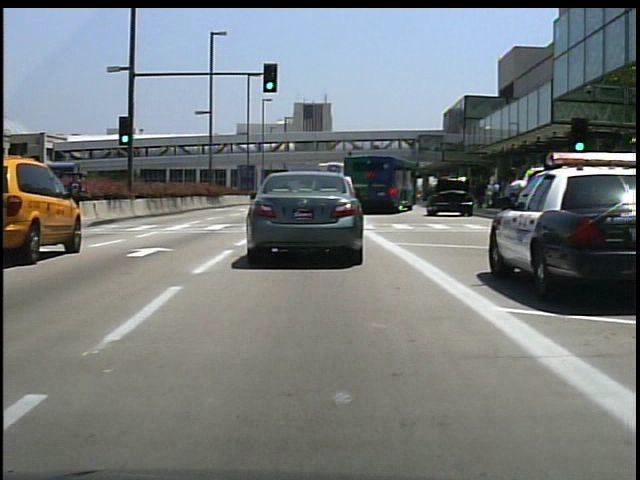person: (497, 164, 534, 260), (50, 168, 65, 223), (68, 173, 86, 205)
